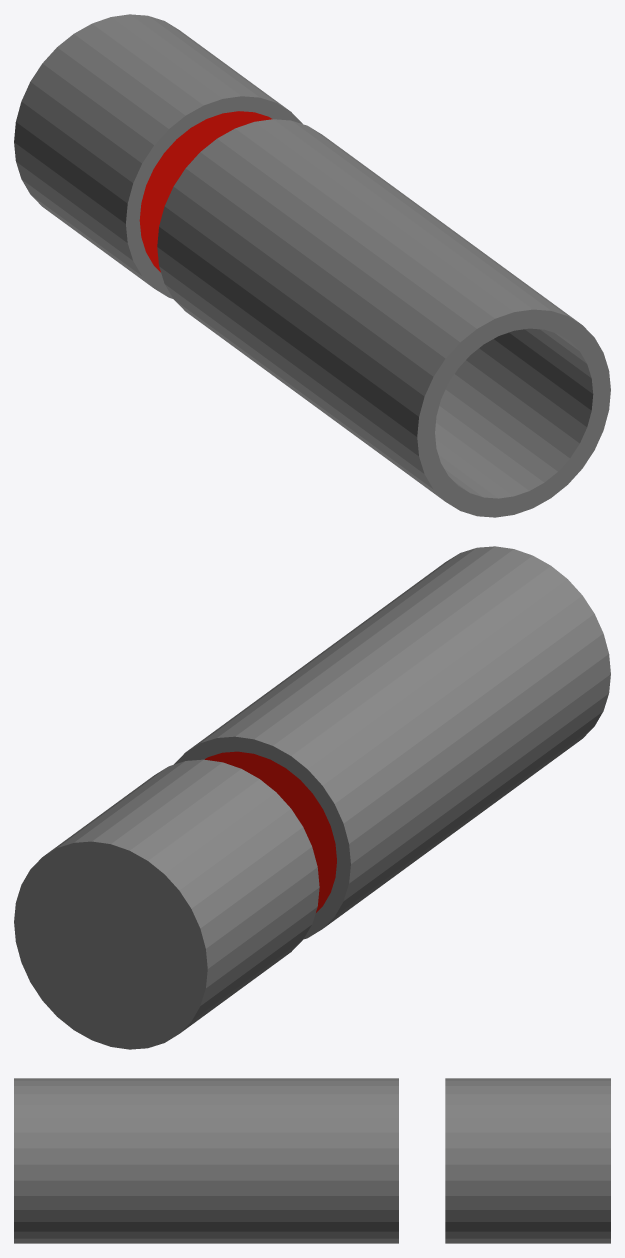
The model's file is pipe_update (1).fbx.
3 views of the same model, one above another, from view 1: azimuth 30°, elevation 25°; view 2: azimuth 150°, elevation 25°; view 3: azimuth 270°, elevation 25° (orthographic). The views are drawn at different scales.
Visible parts, largest first — view 1: Circle, Cylinder; view 2: Circle, Cylinder; view 3: Circle, Cylinder.
Boxes of the visible parts, x1=… form: Circle: x1=157, y1=119, x2=610, y2=517; Cylinder: x1=14, y1=14, x2=302, y2=298; Circle: x1=174, y1=546, x2=610, y2=939; Cylinder: x1=14, y1=759, x2=319, y2=1049; Circle: x1=14, y1=1078, x2=398, y2=1243; Cylinder: x1=445, y1=1078, x2=610, y2=1243.
Size of the model in its own units: 200 by 200 by 721.
